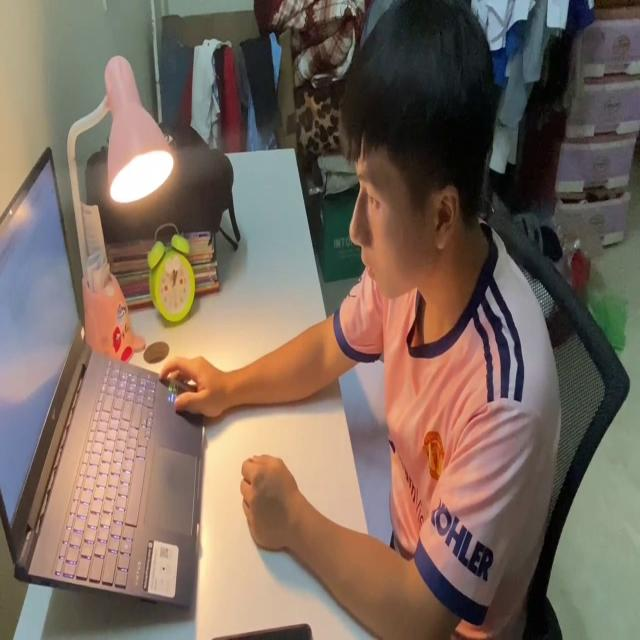book: (336, 350, 401, 554)
laptop: (2, 137, 207, 621)
phone: (211, 624, 313, 640)
student: (158, 0, 560, 640)
